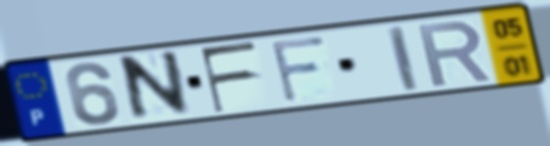6: (62, 59, 121, 128)
F: (196, 39, 261, 116), (267, 33, 329, 106)
I: (383, 22, 422, 94)
N: (120, 47, 194, 126)
R: (414, 18, 495, 90)
